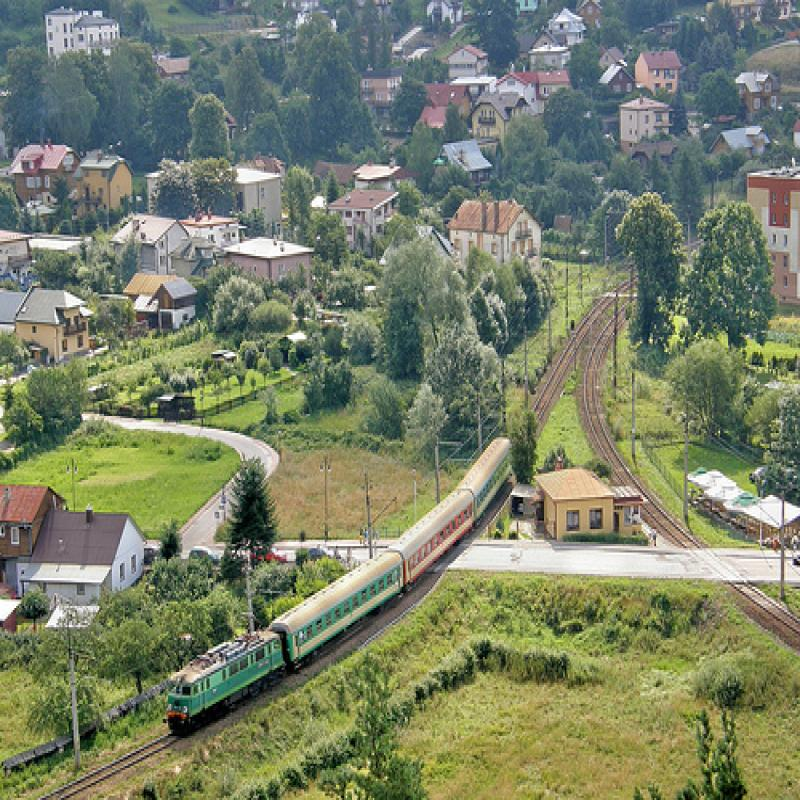train: (171, 436, 510, 735)
